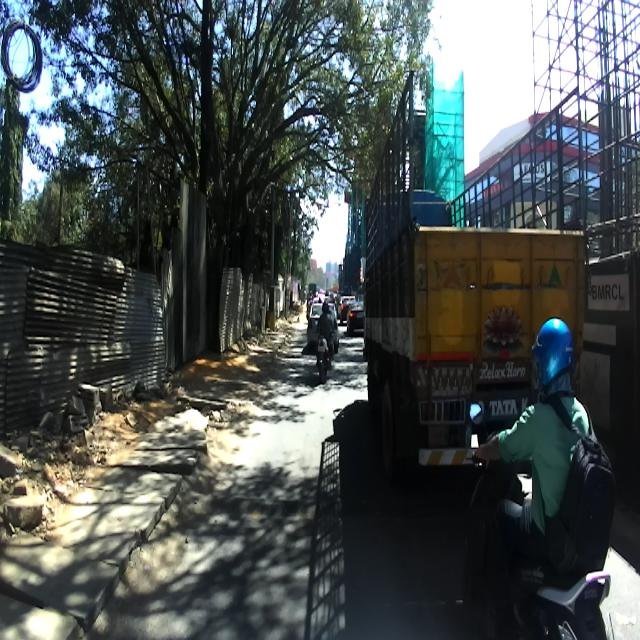truck ahead at: (360, 61, 592, 489)
